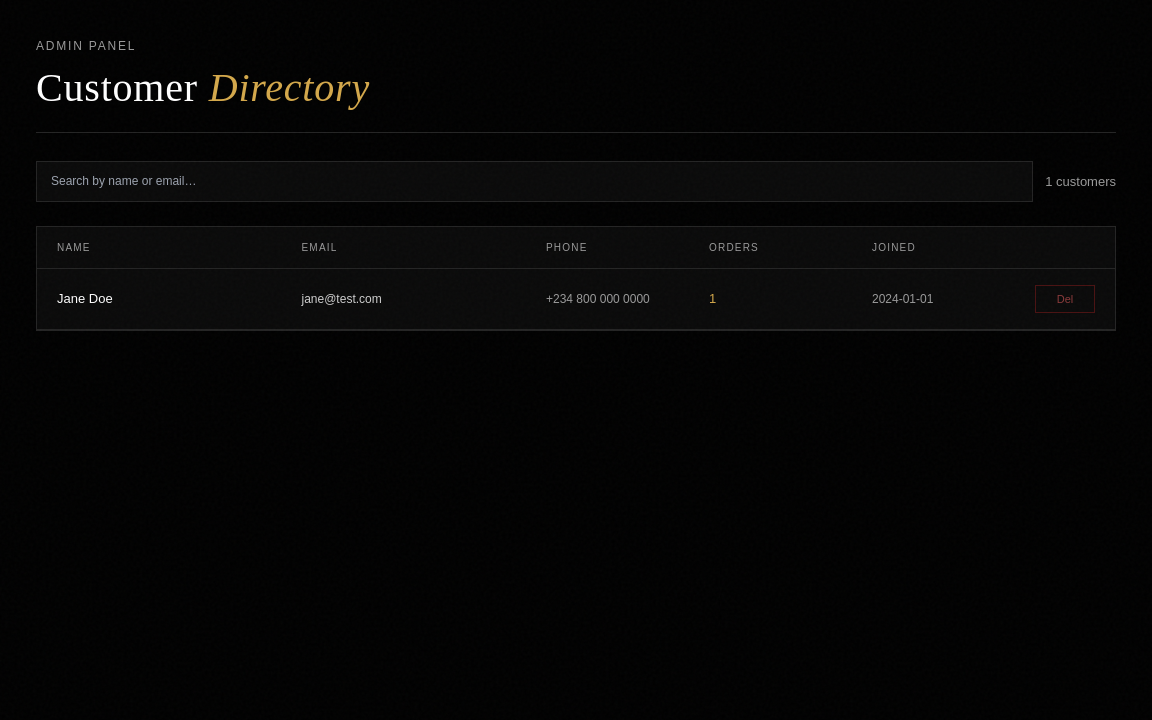
Test case: AdminCustomersContent › closes confirmation modal on cancel
This screenshot has width=1152, height=720.
Click the button with test id "delete-user-u1".
click(1065, 299)  # box [1035,285,1095,314]
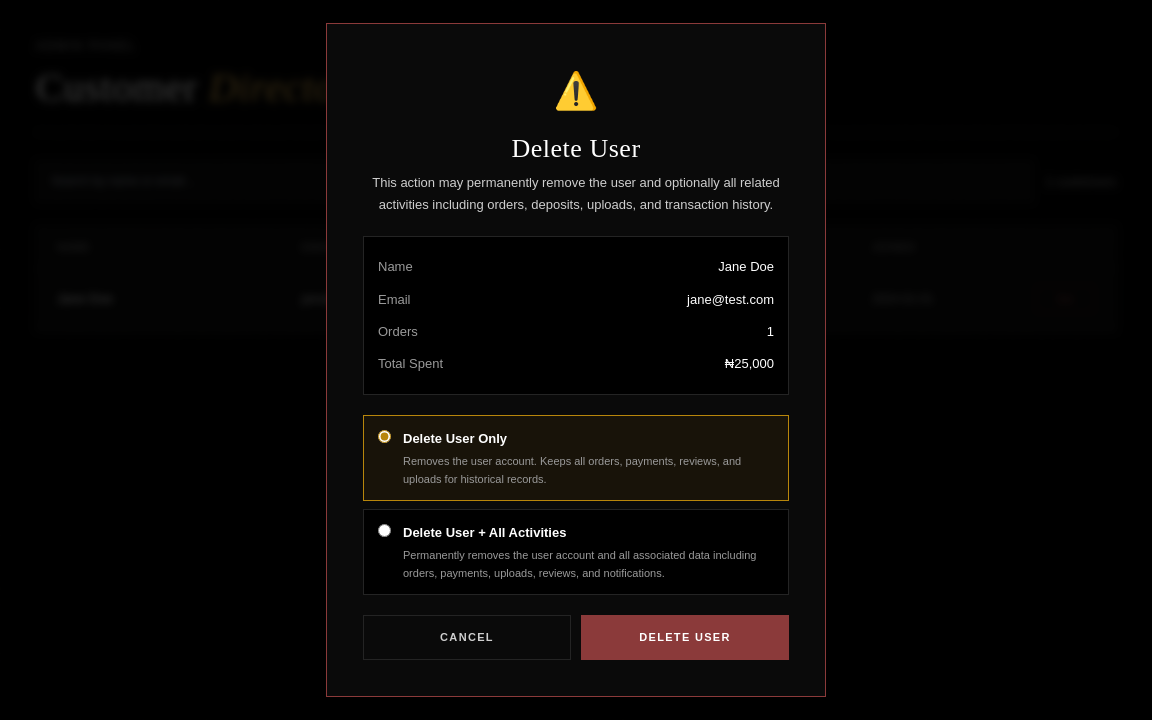
Expected: the dialog with test id "confirm-delete-modal" is shown
Click the button with test id "confirm-delete-cancel".
click(467, 638)  # box [363,615,571,660]
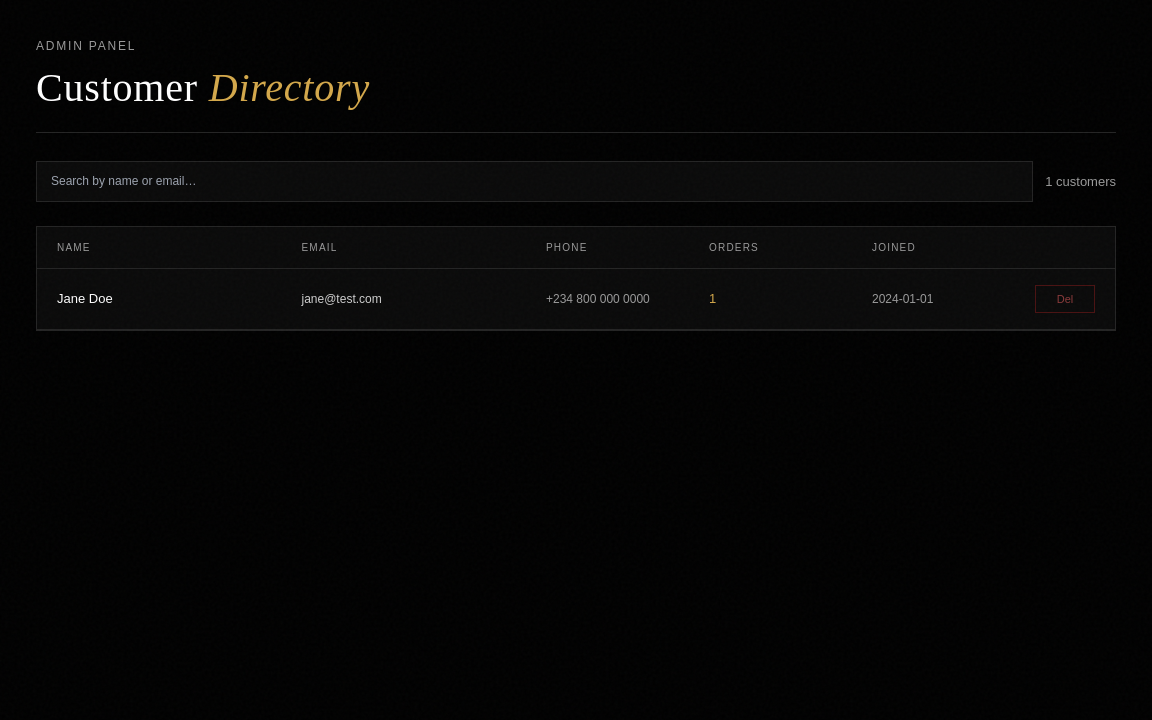
Expected: the dialog with test id "confirm-delete-modal" is gone
